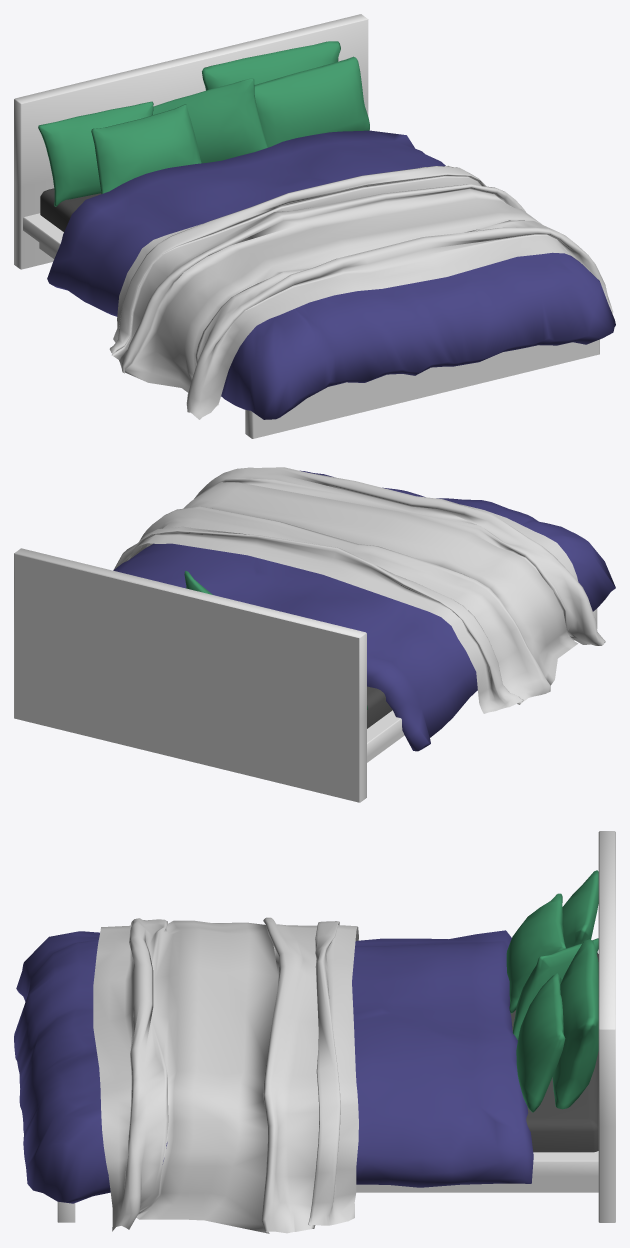
The model's file is MALM02.FBX.
3 views of the same model, one above another, from view 1: azimuth 30°, elevation 25°; view 2: azimuth 150°, elevation 25°; view 3: azimuth 270°, elevation 25° (orthographic). The views are drawn at different scales.
Parts seen in each view (by area): view 1: MALM02; view 2: MALM02; view 3: MALM02.
Boxes of the visible parts, x1,y1,x2,y2 form: MALM02: (14, 14, 615, 438); MALM02: (14, 467, 615, 802); MALM02: (14, 831, 615, 1233).
Size of the model in its own units: 212 by 217 by 77.05.
